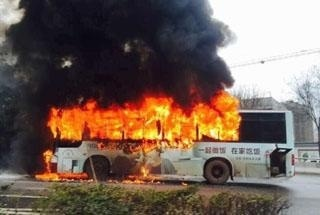fire: (46, 80, 238, 186)
